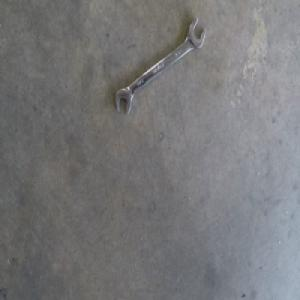Wrench: (115, 20, 206, 116)
